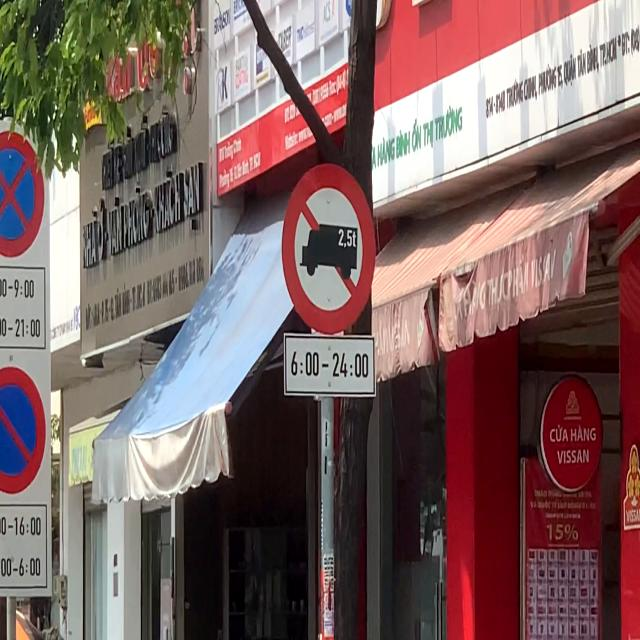P.106b: (277, 159, 375, 340)
